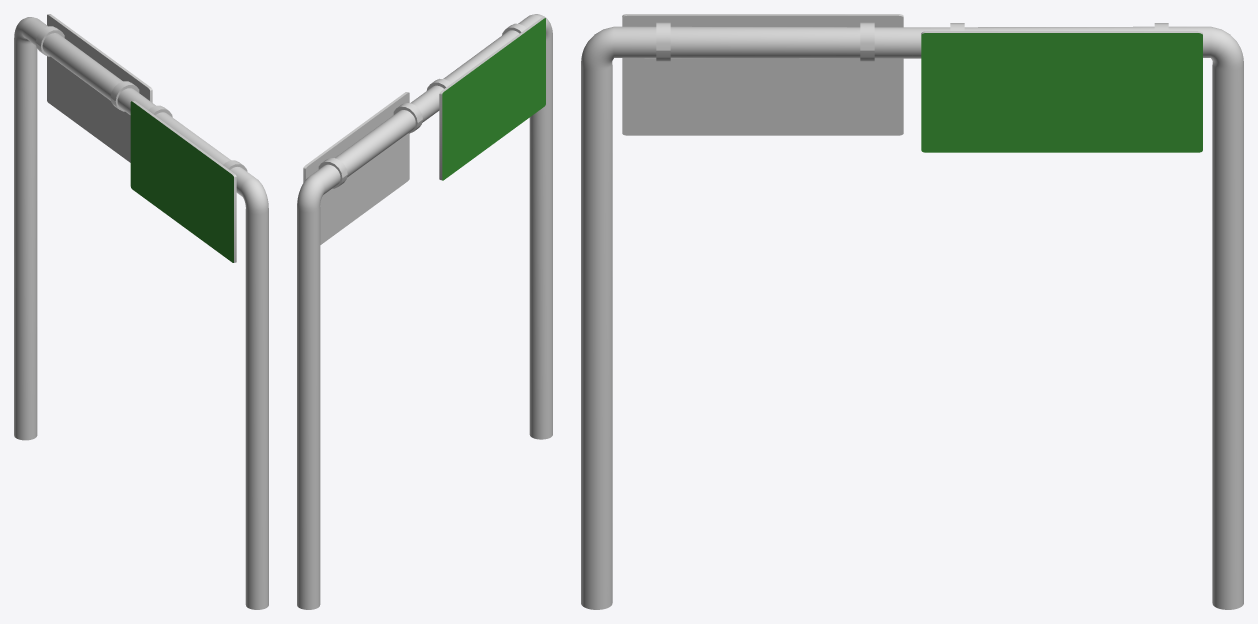
File: FinishLine.fbx
3 views of the same model, side by side, from view 1: azimuth 30°, elevation 25°; view 2: azimuth 150°, elevation 25°; view 3: azimuth 270°, elevation 25° (orthographic). The views are drawn at different scales.
Visible parts, largest first — view 1: Cylinder, Cube.001, Cube.002; view 2: Cylinder, Cube.001, Cube.002; view 3: Cylinder, Cube.002, Cube.001.
Boxes of the visible parts, x1,y1,x2,y2 form: Cylinder: (14,17,268,609); Cube.001: (130,100,247,262); Cube.002: (35,14,152,162); Cylinder: (297,14,552,609); Cube.001: (426,17,545,180); Cube.002: (303,92,422,244); Cylinder: (581,26,1243,609); Cube.002: (921,23,1202,152); Cube.001: (622,14,903,135).
Size of the model in its own units: 67.77 by 968 by 1003.
